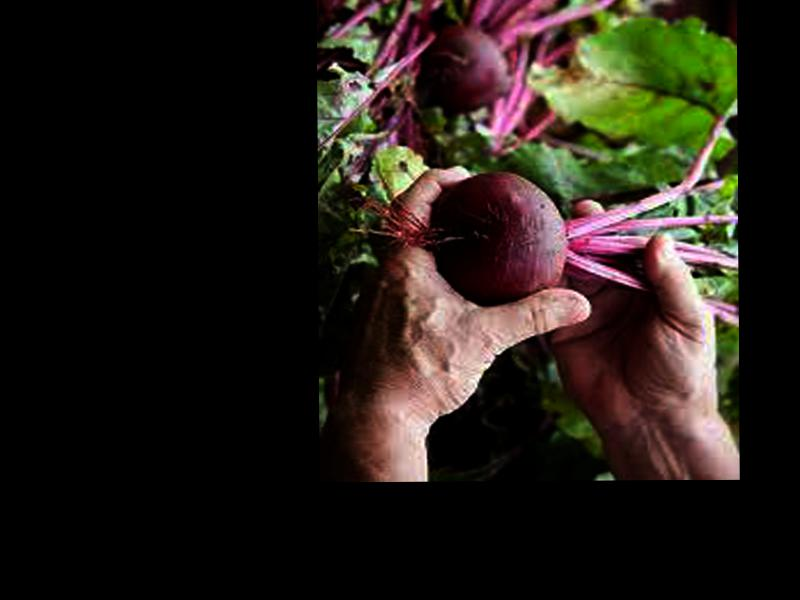Beet: (429, 97, 736, 308)
